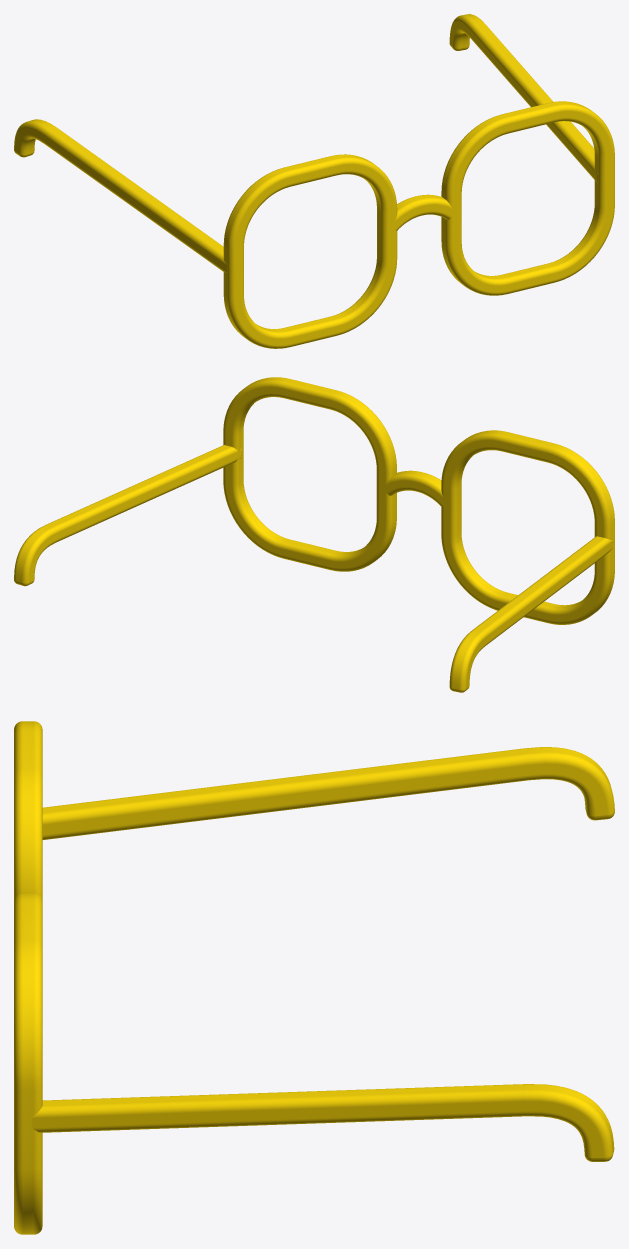
Rendered from glasses.gltf.
The picture shows the model from 3 angles, top to bottom: view 1: azimuth 30°, elevation 25°; view 2: azimuth 150°, elevation 25°; view 3: azimuth 270°, elevation 25°; orthographic projection. The views are drawn at different scales.
Parts seen in each view (by area): view 1: glasses.1; view 2: glasses.1; view 3: glasses.1.
Part boxes in pixels (x1,y1,x2,y2): glasses.1: (14, 14, 614, 348); glasses.1: (14, 377, 614, 692); glasses.1: (14, 721, 614, 1234).
Bounding box in the file's own units: 29.42 × 11 × 21.06.
